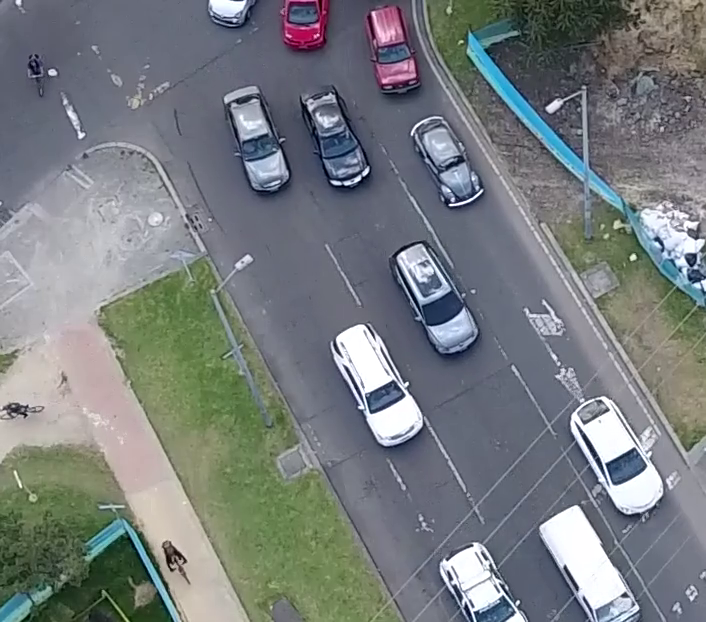car: (566, 391, 665, 520), (329, 321, 425, 449), (387, 238, 481, 358), (219, 79, 294, 195), (297, 80, 374, 192), (407, 115, 486, 211), (362, 0, 423, 97)
